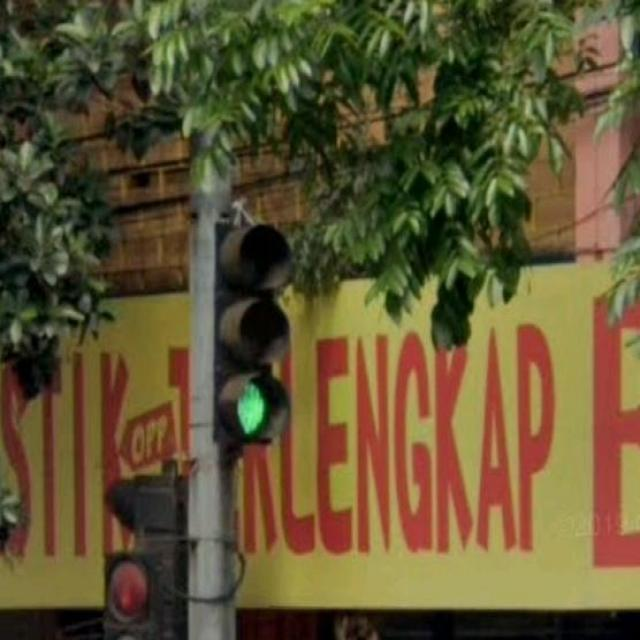green_light: (216, 229, 286, 446)
